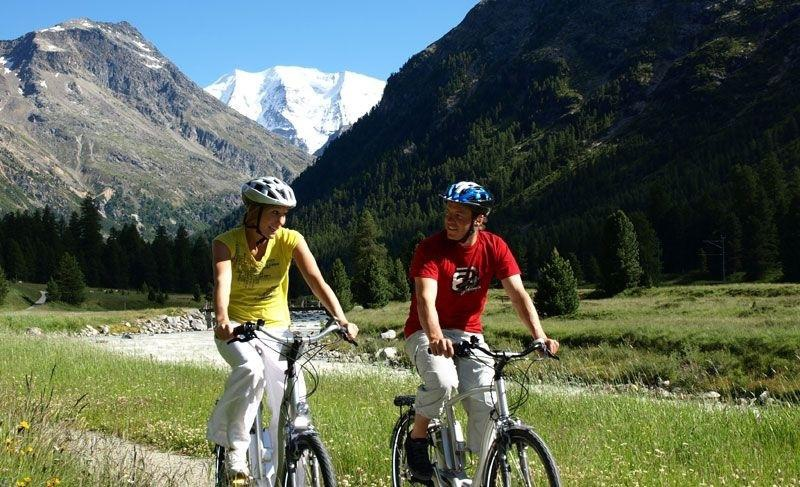non-vehicle: (386, 334, 565, 487), (210, 317, 360, 486)
